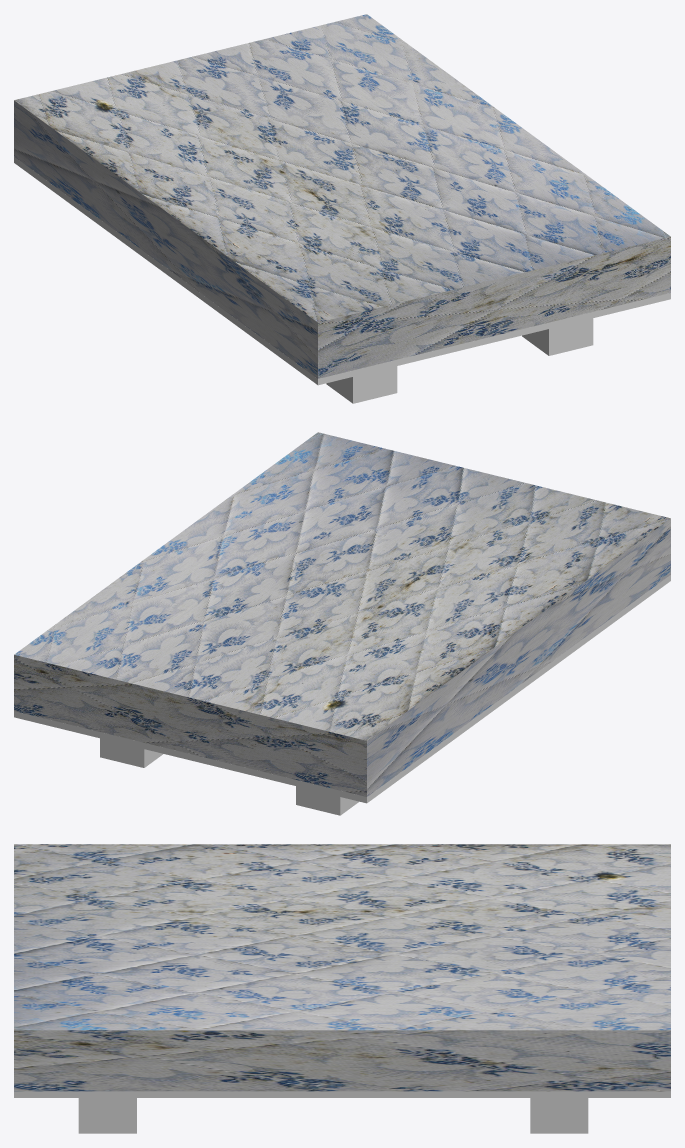
Rendered from Bed.fbx.
The picture shows the model from 3 angles, top to bottom: view 1: azimuth 30°, elevation 25°; view 2: azimuth 150°, elevation 25°; view 3: azimuth 270°, elevation 25°; orthographic projection. The views are drawn at different scales.
Visible parts, largest first — view 1: Cube, Cube.001, Cube.003, Cube.004; view 2: Cube, Cube.001, Cube.002, Cube.005; view 3: Cube, Cube.001, Cube.002, Cube.003.
Boxes of the visible parts, <box> form: Cube: <box>14,14,670,378</box>; Cube.001: <box>14,156,670,385</box>; Cube.003: <box>522,318,593,355</box>; Cube.004: <box>326,366,397,403</box>; Cube: <box>14,432,670,796</box>; Cube.001: <box>14,575,670,803</box>; Cube.002: <box>100,738,162,767</box>; Cube.005: <box>296,786,358,815</box>; Cube: <box>14,844,670,1091</box>; Cube.001: <box>14,1091,670,1097</box>; Cube.002: <box>530,1098,588,1133</box>; Cube.003: <box>78,1098,136,1133</box>.
Bounding box in the file's own units: 417 × 134 × 622.
Materials: 6 (1 with a texture image).
